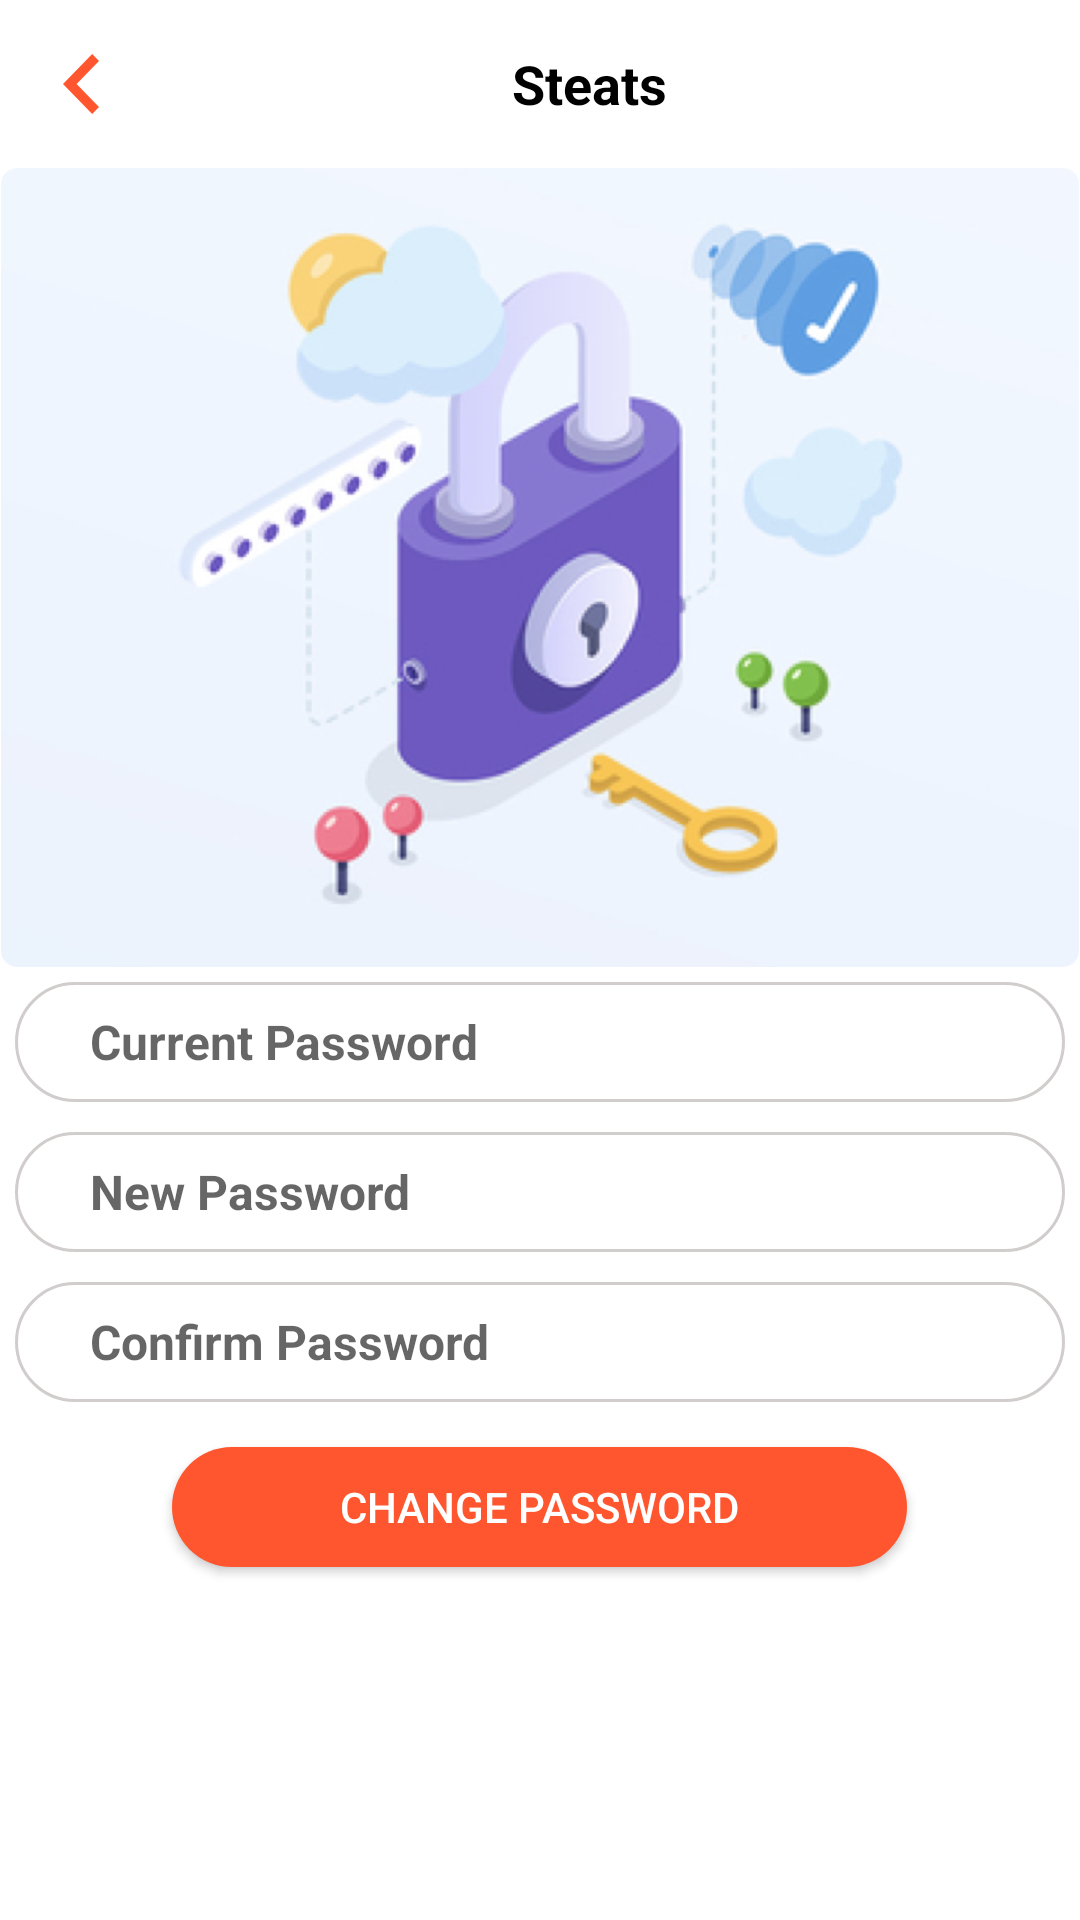

Named icons in this screenshot (1080px×1920px) and their centers, point (x, y):
back: point (81, 84)
